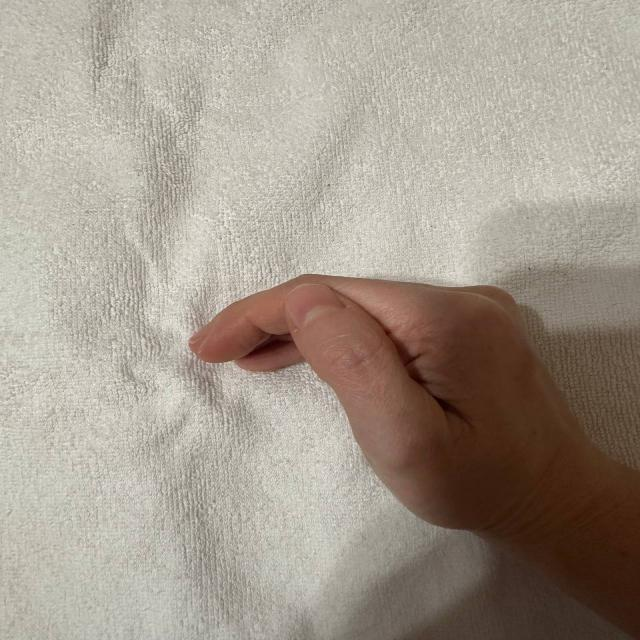f: (162, 222, 571, 510)
